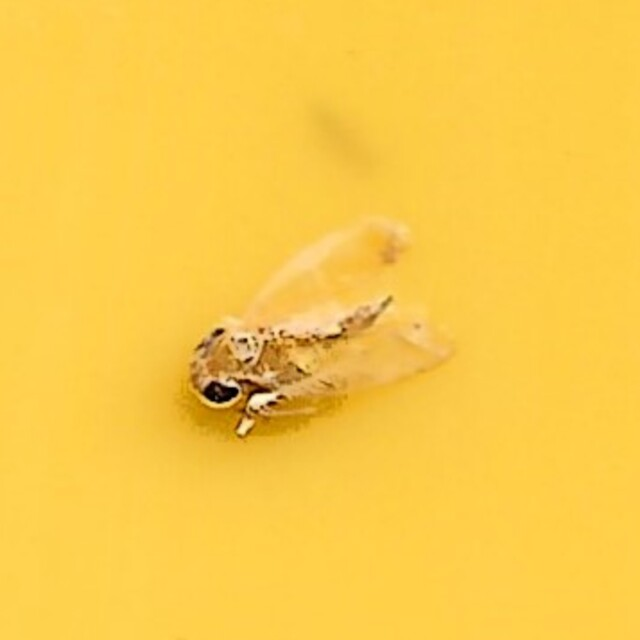Hemiptera: (179, 204, 461, 436)
